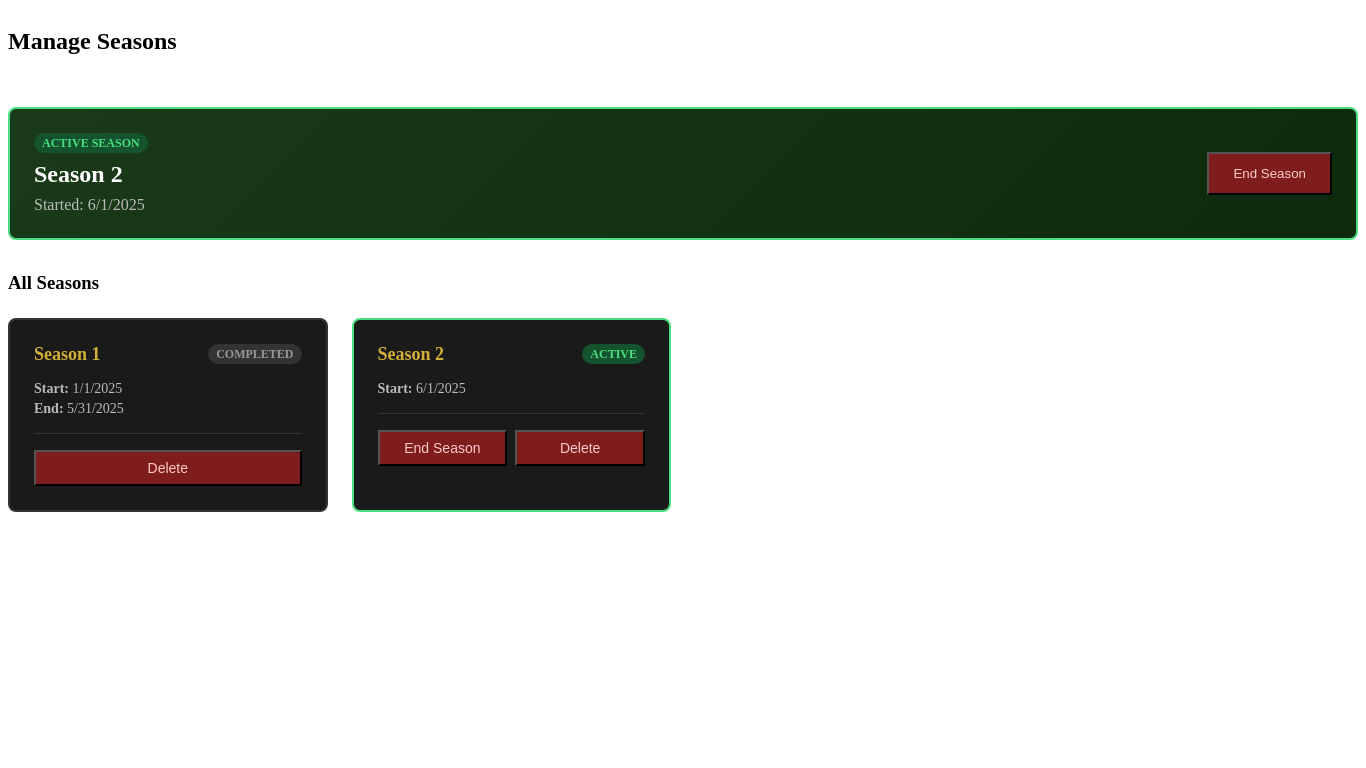
Test: ManageSeasons › deletes a season with confirmation and shows success message
Expected: the heading "Manage Seasons" is shown, [8, 28, 177, 55]
# Click "Delete" for the first season (Season 1 - completed)
Click the button "Delete" below "End:": x=168, y=468 [34, 450, 302, 486]
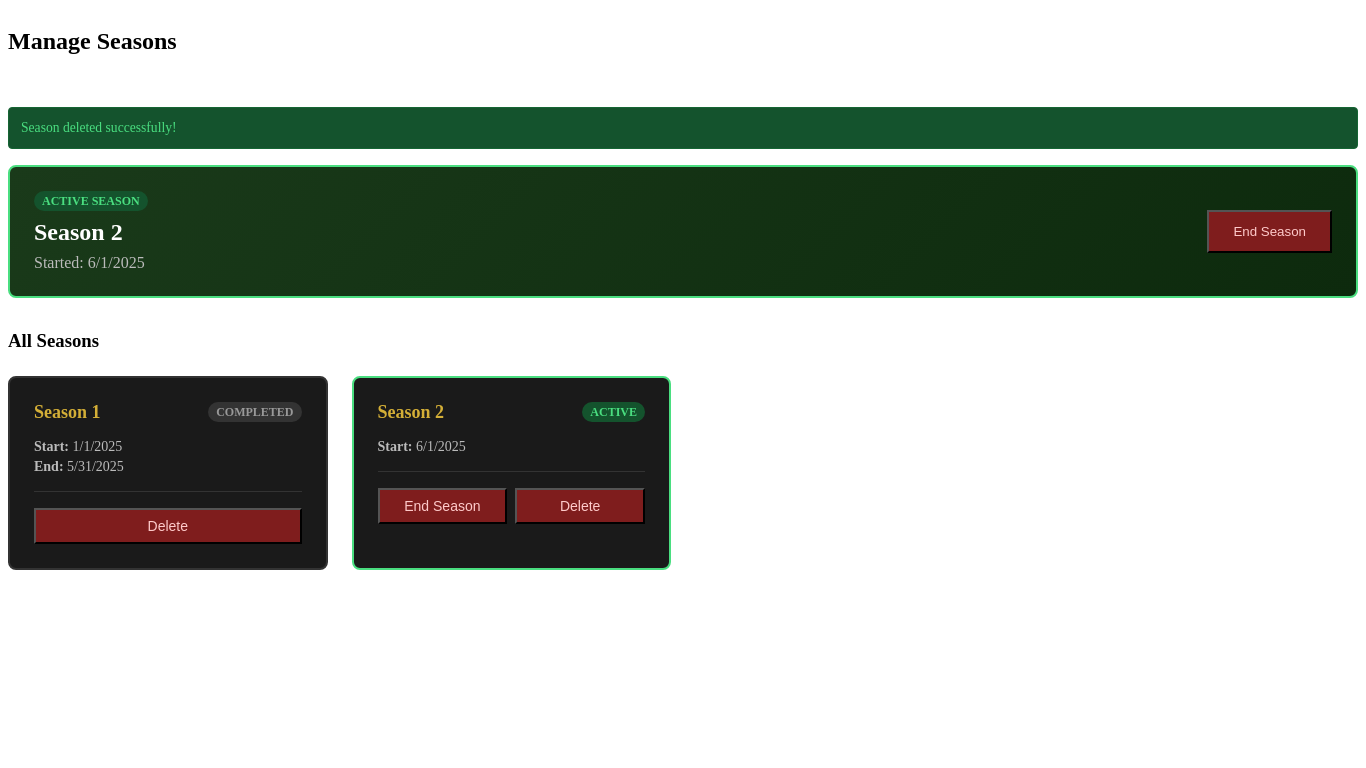
Expected: the text "Season deleted successfully!" is shown, [8, 107, 1358, 149]
